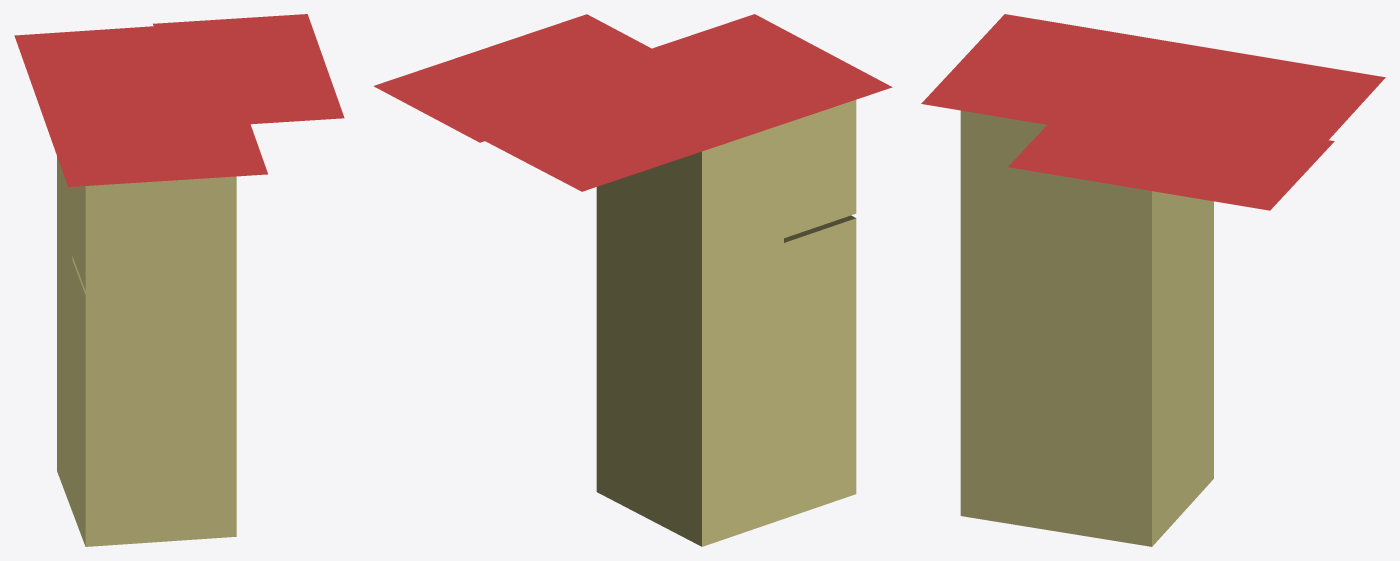
3 views of the same model, side by side, from view 1: azimuth 30°, elevation 25°; view 2: azimuth 150°, elevation 25°; view 3: azimuth 270°, elevation 25° (orthographic). The views are drawn at different scales.
Bounding box in the file's own units: 8.81 × 8.8 × 8.77.
